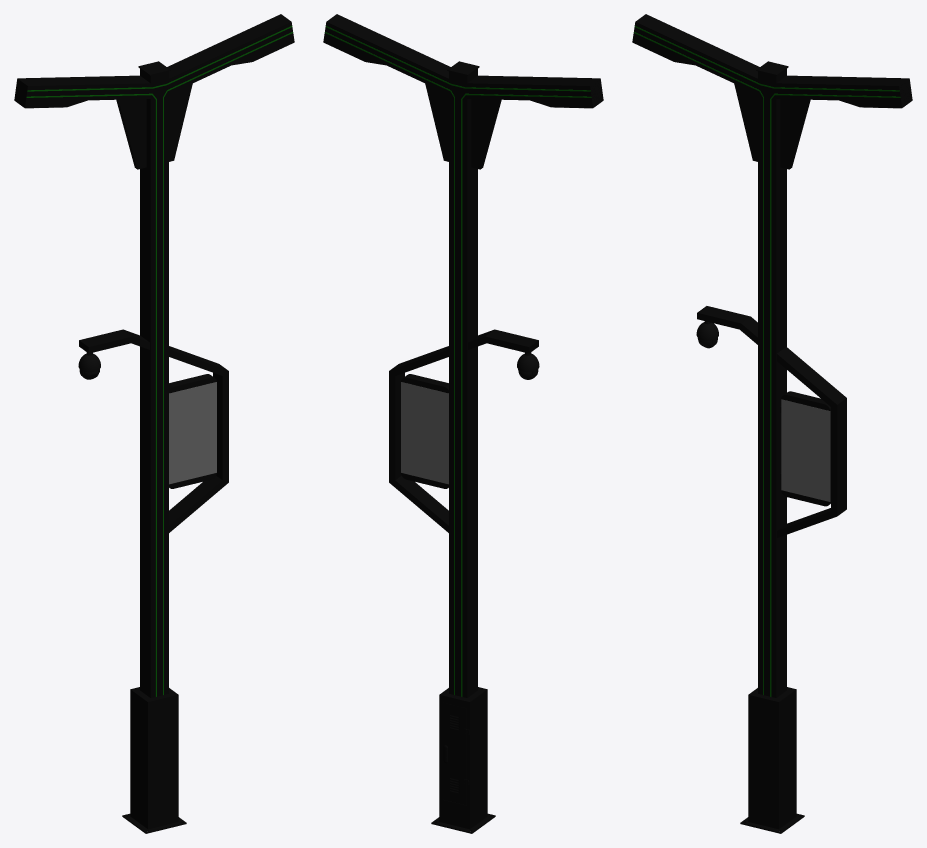
3 renders of one model, left to right at view 1: azimuth 30°, elevation 25°; view 2: azimuth 150°, elevation 25°; view 3: azimuth 330°, elevation 25°, orthographic.
Visible parts, largest first — view 1: 杆体 (×6), 机箱2, 屏幕, 颜色带 (×3), 外壳; view 2: 杆体 (×6), 机箱2 (×2), 屏幕, 颜色带 (×3), 外壳; view 3: 杆体 (×6), 机箱2, 屏幕, 颜色带 (×3), 外壳.
Part boxes in pixels (left/top/right/bottom): 杆体 (×6): left=15, top=14, right=293, bottom=697; 机箱2: left=130, top=687, right=178, bottom=829; 屏幕: left=169, top=382, right=216, bottom=484; 颜色带 (×3): left=26, top=26, right=293, bottom=696; 外壳: left=169, top=374, right=216, bottom=488; 杆体 (×6): left=324, top=14, right=602, bottom=697; 机箱2 (×2): left=439, top=687, right=487, bottom=829; 屏幕: left=401, top=382, right=448, bottom=484; 颜色带 (×3): left=324, top=26, right=591, bottom=696; 外壳: left=401, top=374, right=448, bottom=488; 杆体 (×6): left=633, top=14, right=911, bottom=697; 机箱2: left=748, top=687, right=796, bottom=829; 屏幕: left=781, top=399, right=830, bottom=501; 颜色带 (×3): left=633, top=26, right=900, bottom=696; 外壳: left=781, top=391, right=830, bottom=506.
Bounding box in the file's own units: 2199 × 6000 × 332.
